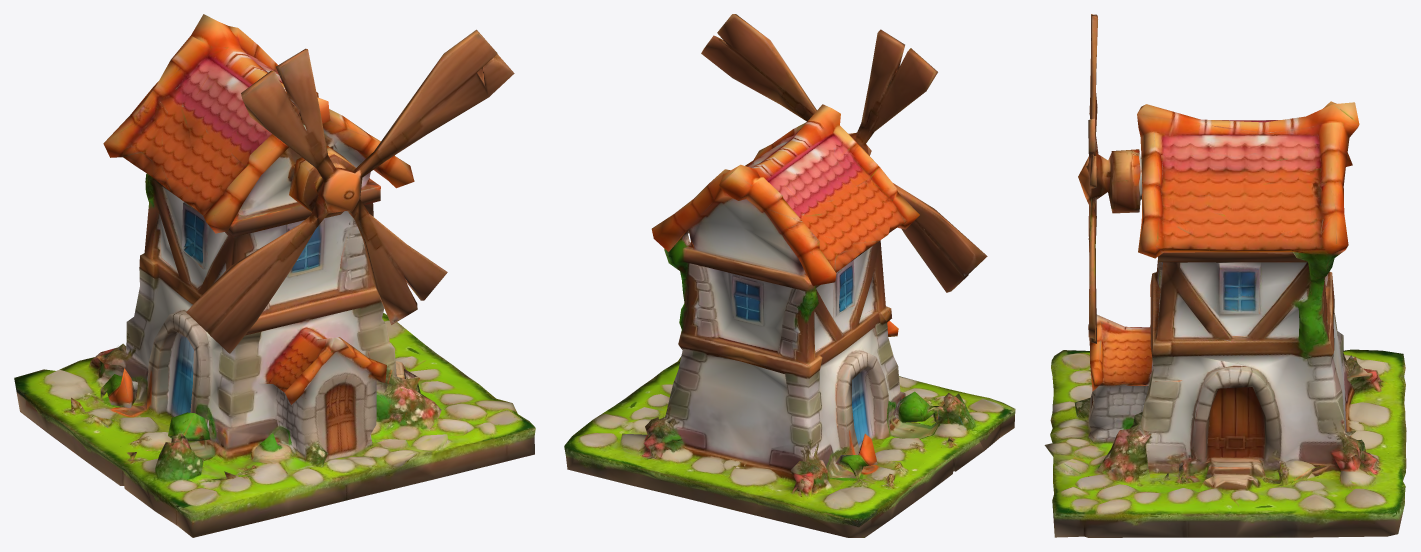
File: windmill.glb
3 renders of one model, left to right at view 1: azimuth 30°, elevation 25°; view 2: azimuth 150°, elevation 25°; view 3: azimuth 270°, elevation 25°, orthographic. The views are drawn at different scales.
Visible parts, largest first — view 1: Mesh1.0; view 2: Mesh1.0; view 3: Mesh1.0.
Boxes of the visible parts, x1,y1,x2,y2 form: Mesh1.0: (14,14,535,537); Mesh1.0: (564,14,1015,537); Mesh1.0: (1044,14,1406,537).
Size of the model in its own units: 1.7 by 2.01 by 1.56.
Materials: 1 (1 with a texture image).
